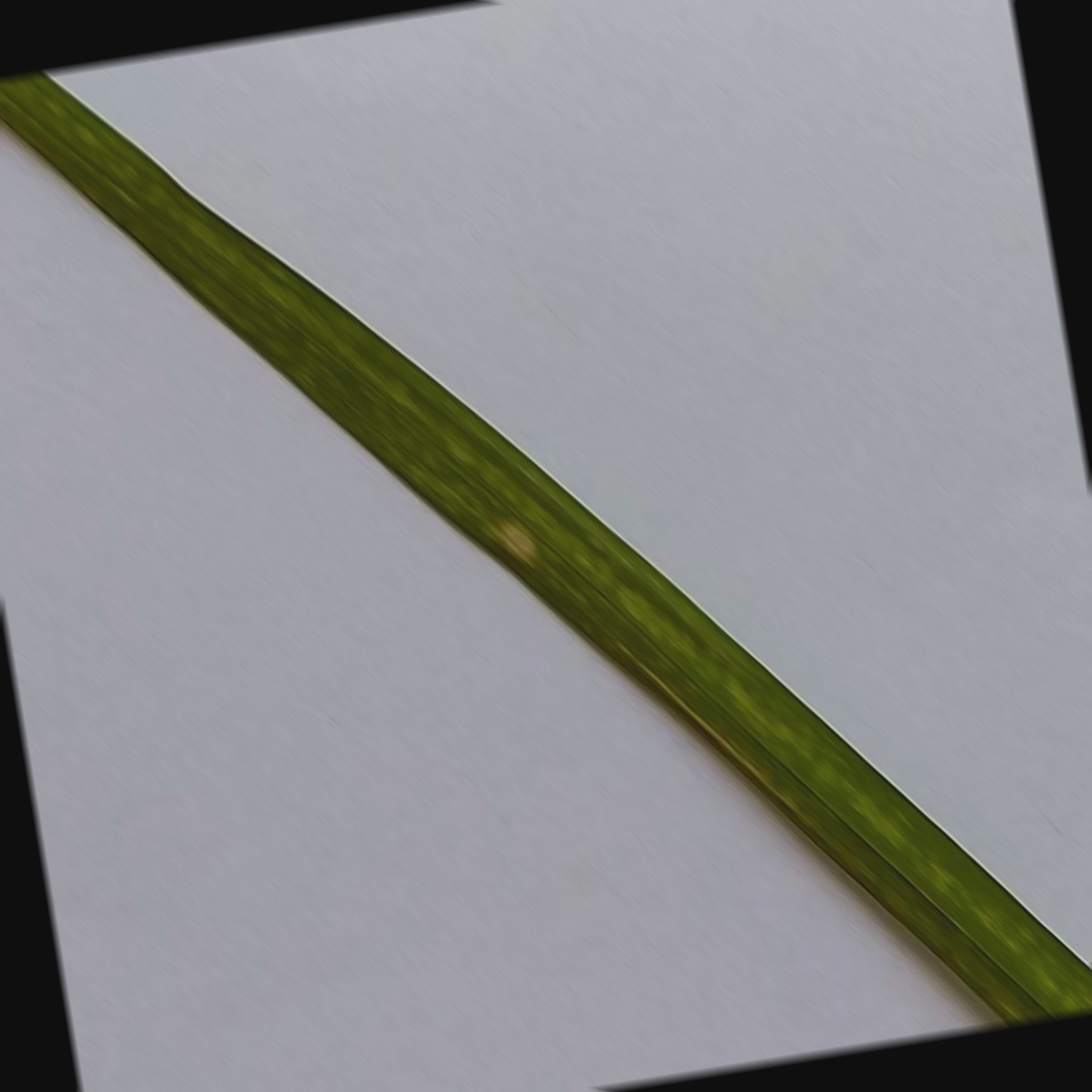Brown_Spot: (479, 503, 549, 579)
